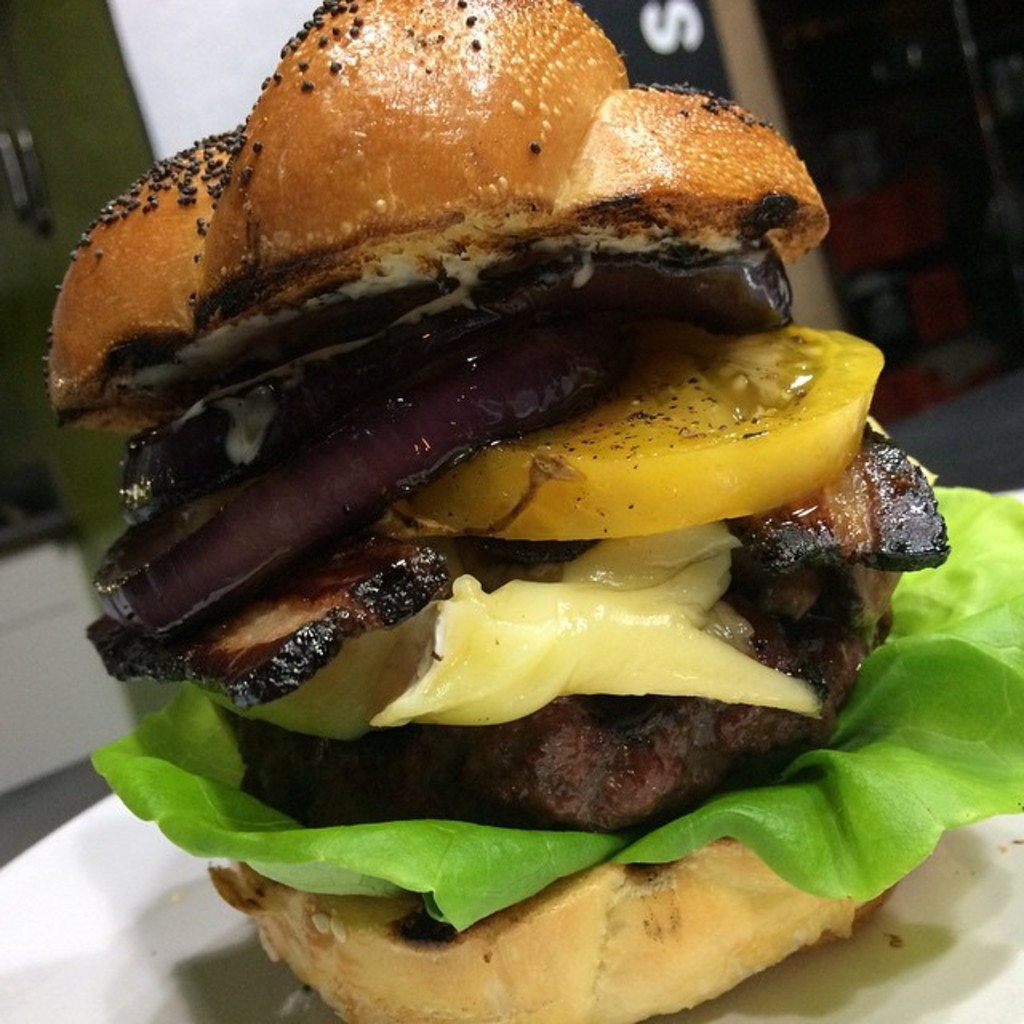Hamburger: (44, 0, 1022, 1022)
